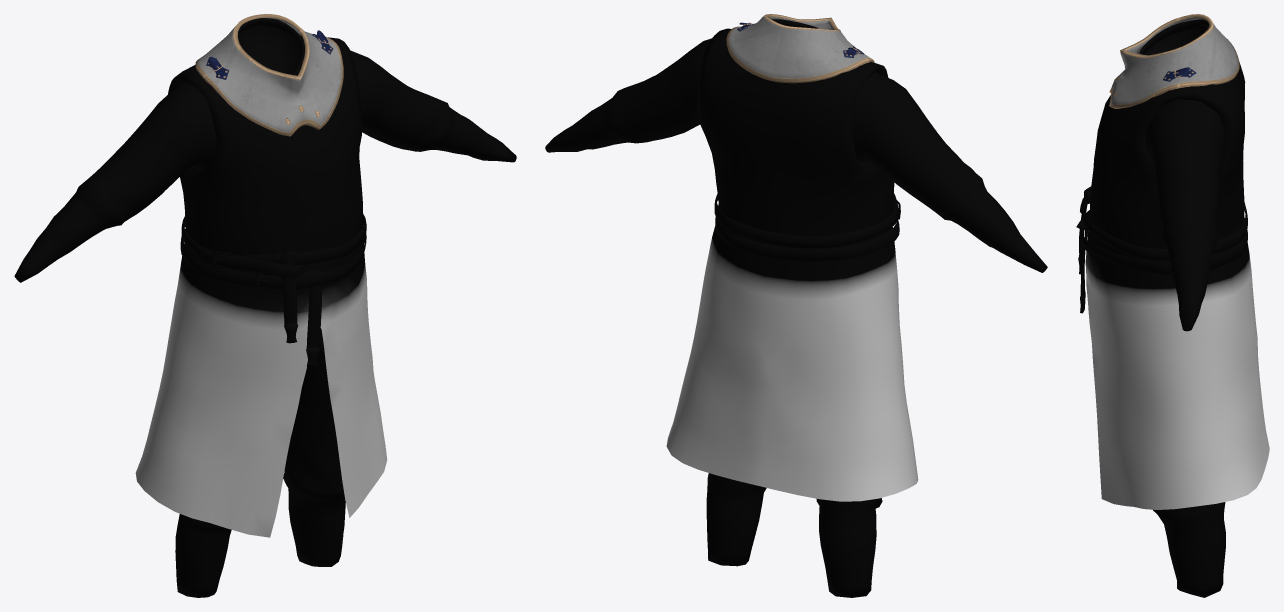
File: swan_knight_armor_tabard1_t1_slim.fbx
The picture shows the model from 3 angles, left to right: view 1: azimuth 30°, elevation 25°; view 2: azimuth 150°, elevation 25°; view 3: azimuth 270°, elevation 25°; orthographic projection. The views are drawn at different scales.
Visible parts, largest first — view 1: swan_knight_armor_tabard1_t1_slim.0, swan_knight_armor_tabard1_t1_slim.1; view 2: swan_knight_armor_tabard1_t1_slim.0, swan_knight_armor_tabard1_t1_slim.1; view 3: swan_knight_armor_tabard1_t1_slim.0, swan_knight_armor_tabard1_t1_slim.1.
Part boxes in pixels (bbox=[...]): swan_knight_armor_tabard1_t1_slim.0: bbox=[14, 18, 516, 597]; swan_knight_armor_tabard1_t1_slim.1: bbox=[195, 14, 343, 136]; swan_knight_armor_tabard1_t1_slim.0: bbox=[545, 19, 1047, 597]; swan_knight_armor_tabard1_t1_slim.1: bbox=[726, 14, 874, 83]; swan_knight_armor_tabard1_t1_slim.0: bbox=[1076, 19, 1269, 597]; swan_knight_armor_tabard1_t1_slim.1: bbox=[1109, 14, 1239, 108].
Bounding box in the file's own units: 1.3 × 0.4478 × 1.38.
